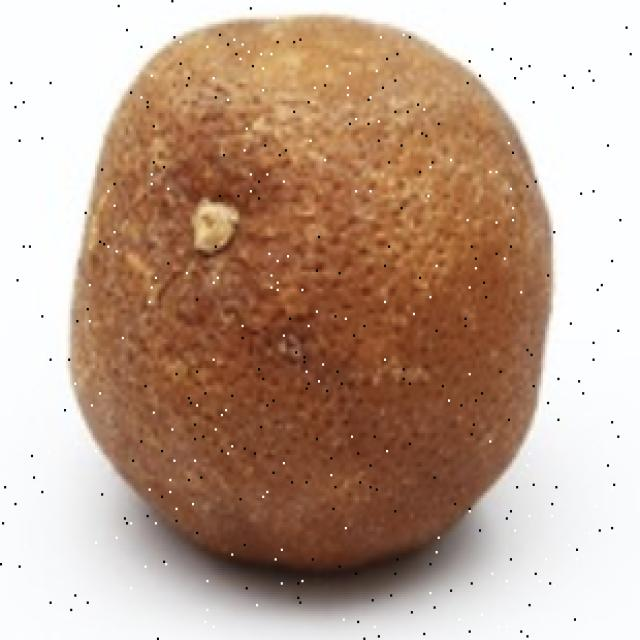sangat_busuk: (73, 22, 556, 555)
